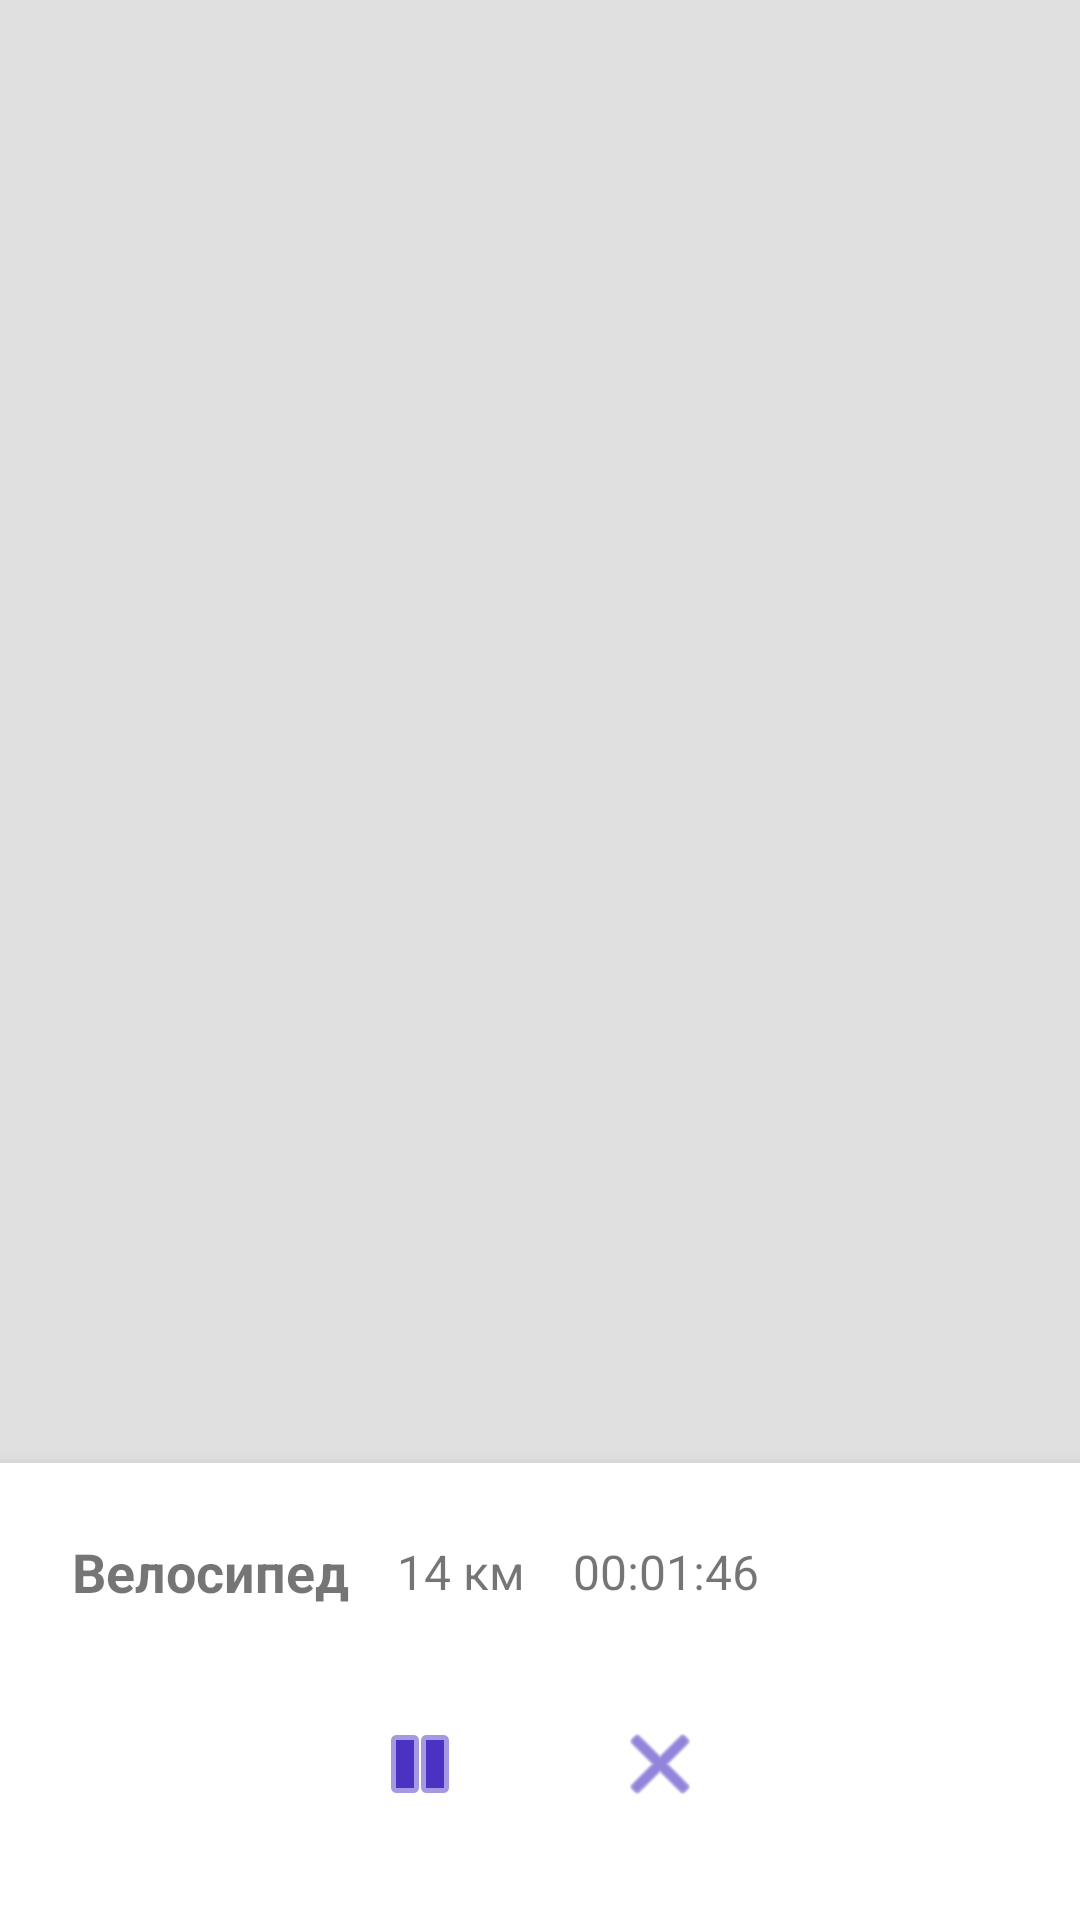

Locate icon controls on the screen. Image size 1080×1920, boxes as (x1, y1, x2, y2).
close clear cancel: (630, 1734, 690, 1794)
pause: (391, 1735, 449, 1793)
